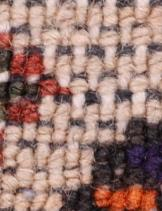Knot: (23, 84, 37, 99), (109, 190, 122, 206), (23, 109, 37, 123), (28, 31, 39, 46), (7, 104, 18, 118), (21, 126, 31, 141), (155, 194, 161, 208)
